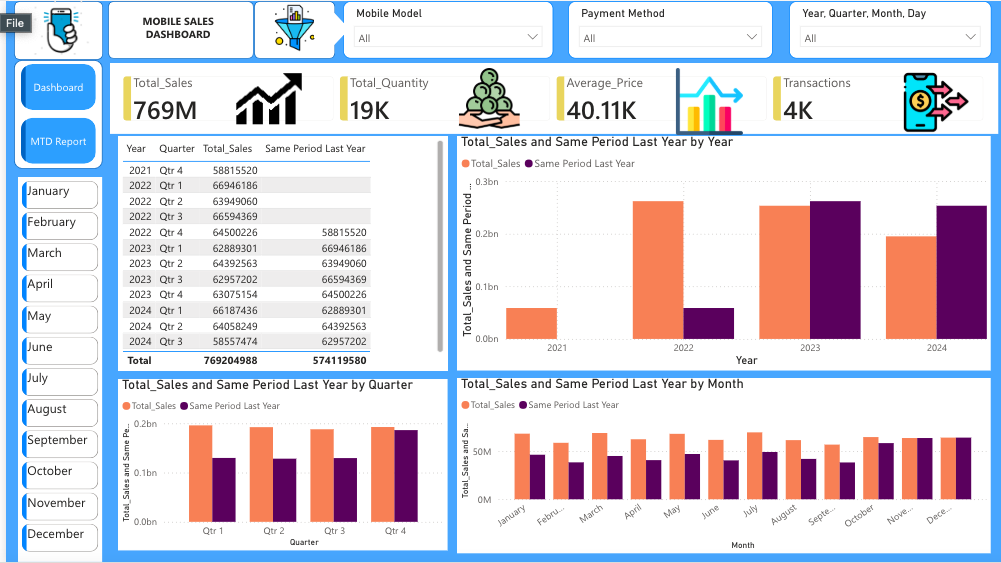

The dashboard page shown, as its layout file describes it:
{"tool":"powerbi","page":{"name":"Same period last year","canvas":[1280,720],"ordinal":2},"visuals":[{"type":"shape","box":[10,0,114.3,75.7],"z":0},{"type":"image","box":[10,0,121.4,74.3],"z":1000},{"type":"shape","box":[10.1,76.3,113.8,139.7],"z":2000},{"type":"cardVisual","fields":{"Data":["Mobile_sales_data.Total_Sales","Mobile_sales_data.Total_Quantity","Mobile_sales_data.Average_Price","Mobile_sales_data.Transactions"]},"box":[132.9,80,1140,91.4],"z":3000},{"type":"slicer","fields":{"Values":["Mobile_sales_data.Mobile Model"]},"box":[432.9,0,270,74.3],"z":4000},{"type":"slicer","fields":{"Values":["Mobile_sales_data.Payment Method"]},"box":[721.4,0,262.9,74.3],"z":5000},{"type":"slicer","fields":{"Values":["Custom_Calendar.Date.Variation.Date Hierarchy.Year","Custom_Calendar.Date.Variation.Date Hierarchy.Quarter","Custom_Calendar.Date.Variation.Date Hierarchy.Month","Custom_Calendar.Date.Variation.Date Hierarchy.Day"]},"box":[1004.3,0,260,74.3],"z":6000},{"type":"shape","box":[318.6,0,104.3,74.3],"z":7000},{"type":"image","box":[322.9,2.9,95.7,64.3],"z":8000},{"type":"shape","box":[395.7,11.4,45.7,48.6],"z":9000},{"type":"image","box":[242.9,82.9,190,84.3],"z":10000},{"type":"image","box":[520,82.9,201.4,82.9],"z":11000},{"type":"image","box":[760,85.7,285.7,85.7],"z":12000},{"type":"image","box":[1105.7,88.6,174.3,82.9],"z":13000},{"type":"shape","box":[131.4,0,187.1,74.3],"z":14000},{"type":"textbox","box":[144.3,11.4,154.3,48.6],"z":15000},{"type":"advancedSlicerVisual","fields":{"Values":["Custom_Calendar.Date.Variation.Date Hierarchy.Month"]},"box":[15.8,226.1,108,493.9],"z":16000},{"type":"clusteredColumnChart","fields":{"Category":["Custom_Calendar.Date.Variation.Date Hierarchy.Year","Custom_Calendar.Date.Variation.Date Hierarchy.Quarter"],"Y":["Mobile_sales_data.Total_Sales","Mobile_sales_data.Same Period Last Year"]},"box":[578.9,172.8,685.4,301],"z":17000},{"type":"tableEx","fields":{"Values":["Custom_Calendar.Date.Variation.Date Hierarchy.Year","Custom_Calendar.Date.Variation.Date Hierarchy.Quarter","Mobile_sales_data.Total_Sales","Mobile_sales_data.Same Period Last Year"]},"box":[144,172.8,423.4,301],"z":18000},{"type":"clusteredColumnChart","fields":{"Y":["Mobile_sales_data.Total_Sales","Mobile_sales_data.Same Period Last Year"],"Category":["Custom_Calendar.Date.Variation.Date Hierarchy.Year","Custom_Calendar.Date.Variation.Date Hierarchy.Quarter","Custom_Calendar.Date.Variation.Date Hierarchy.Month","Custom_Calendar.Date.Variation.Date Hierarchy.Day"]},"box":[578.9,483.8,685.4,224.6],"z":19000},{"type":"clusteredColumnChart","fields":{"Category":["Custom_Calendar.Date.Variation.Date Hierarchy.Year","Custom_Calendar.Date.Variation.Date Hierarchy.Quarter"],"Y":["Mobile_sales_data.Total_Sales","Mobile_sales_data.Same Period Last Year"]},"box":[144,485.3,423.4,220.3],"z":20000},{"type":"pageNavigator","box":[18.7,80.6,96.5,128.2],"z":21000}]}

Visuals, with their boxes on the page's 1280x720 design canvas (x1, y1, x2, y2). These are canvas units, not pixel positions in the 1001x563 screenshot, which may show the page scaled, cropped or inside an application window:
shape: pyautogui.locateOnScreen(10, 0, 124, 76)
image: pyautogui.locateOnScreen(10, 0, 131, 74)
shape: pyautogui.locateOnScreen(10, 76, 124, 216)
cardVisual - Mobile_sales_data.Total_Sales x Mobile_sales_data.Total_Quantity: pyautogui.locateOnScreen(133, 80, 1273, 171)
slicer - Mobile_sales_data.Mobile Model: pyautogui.locateOnScreen(433, 0, 703, 74)
slicer - Mobile_sales_data.Payment Method: pyautogui.locateOnScreen(721, 0, 984, 74)
slicer - Custom_Calendar.Date.Variation.Date Hierarchy.Year x Custom_Calendar.Date.Variation.Date Hierarchy.Quarter: pyautogui.locateOnScreen(1004, 0, 1264, 74)
shape: pyautogui.locateOnScreen(319, 0, 423, 74)
image: pyautogui.locateOnScreen(323, 3, 419, 67)
shape: pyautogui.locateOnScreen(396, 11, 441, 60)
image: pyautogui.locateOnScreen(243, 83, 433, 167)
image: pyautogui.locateOnScreen(520, 83, 721, 166)
image: pyautogui.locateOnScreen(760, 86, 1046, 171)
image: pyautogui.locateOnScreen(1106, 89, 1280, 172)
shape: pyautogui.locateOnScreen(131, 0, 318, 74)
textbox: pyautogui.locateOnScreen(144, 11, 299, 60)
advancedSlicerVisual - Custom_Calendar.Date.Variation.Date Hierarchy.Month: pyautogui.locateOnScreen(16, 226, 124, 720)
clusteredColumnChart - Custom_Calendar.Date.Variation.Date Hierarchy.Year x Custom_Calendar.Date.Variation.Date Hierarchy.Quarter: pyautogui.locateOnScreen(579, 173, 1264, 474)
tableEx - Custom_Calendar.Date.Variation.Date Hierarchy.Year x Custom_Calendar.Date.Variation.Date Hierarchy.Quarter: pyautogui.locateOnScreen(144, 173, 567, 474)
clusteredColumnChart - Mobile_sales_data.Total_Sales x Mobile_sales_data.Same Period Last Year: pyautogui.locateOnScreen(579, 484, 1264, 708)
clusteredColumnChart - Custom_Calendar.Date.Variation.Date Hierarchy.Year x Custom_Calendar.Date.Variation.Date Hierarchy.Quarter: pyautogui.locateOnScreen(144, 485, 567, 706)
pageNavigator: pyautogui.locateOnScreen(19, 81, 115, 209)
